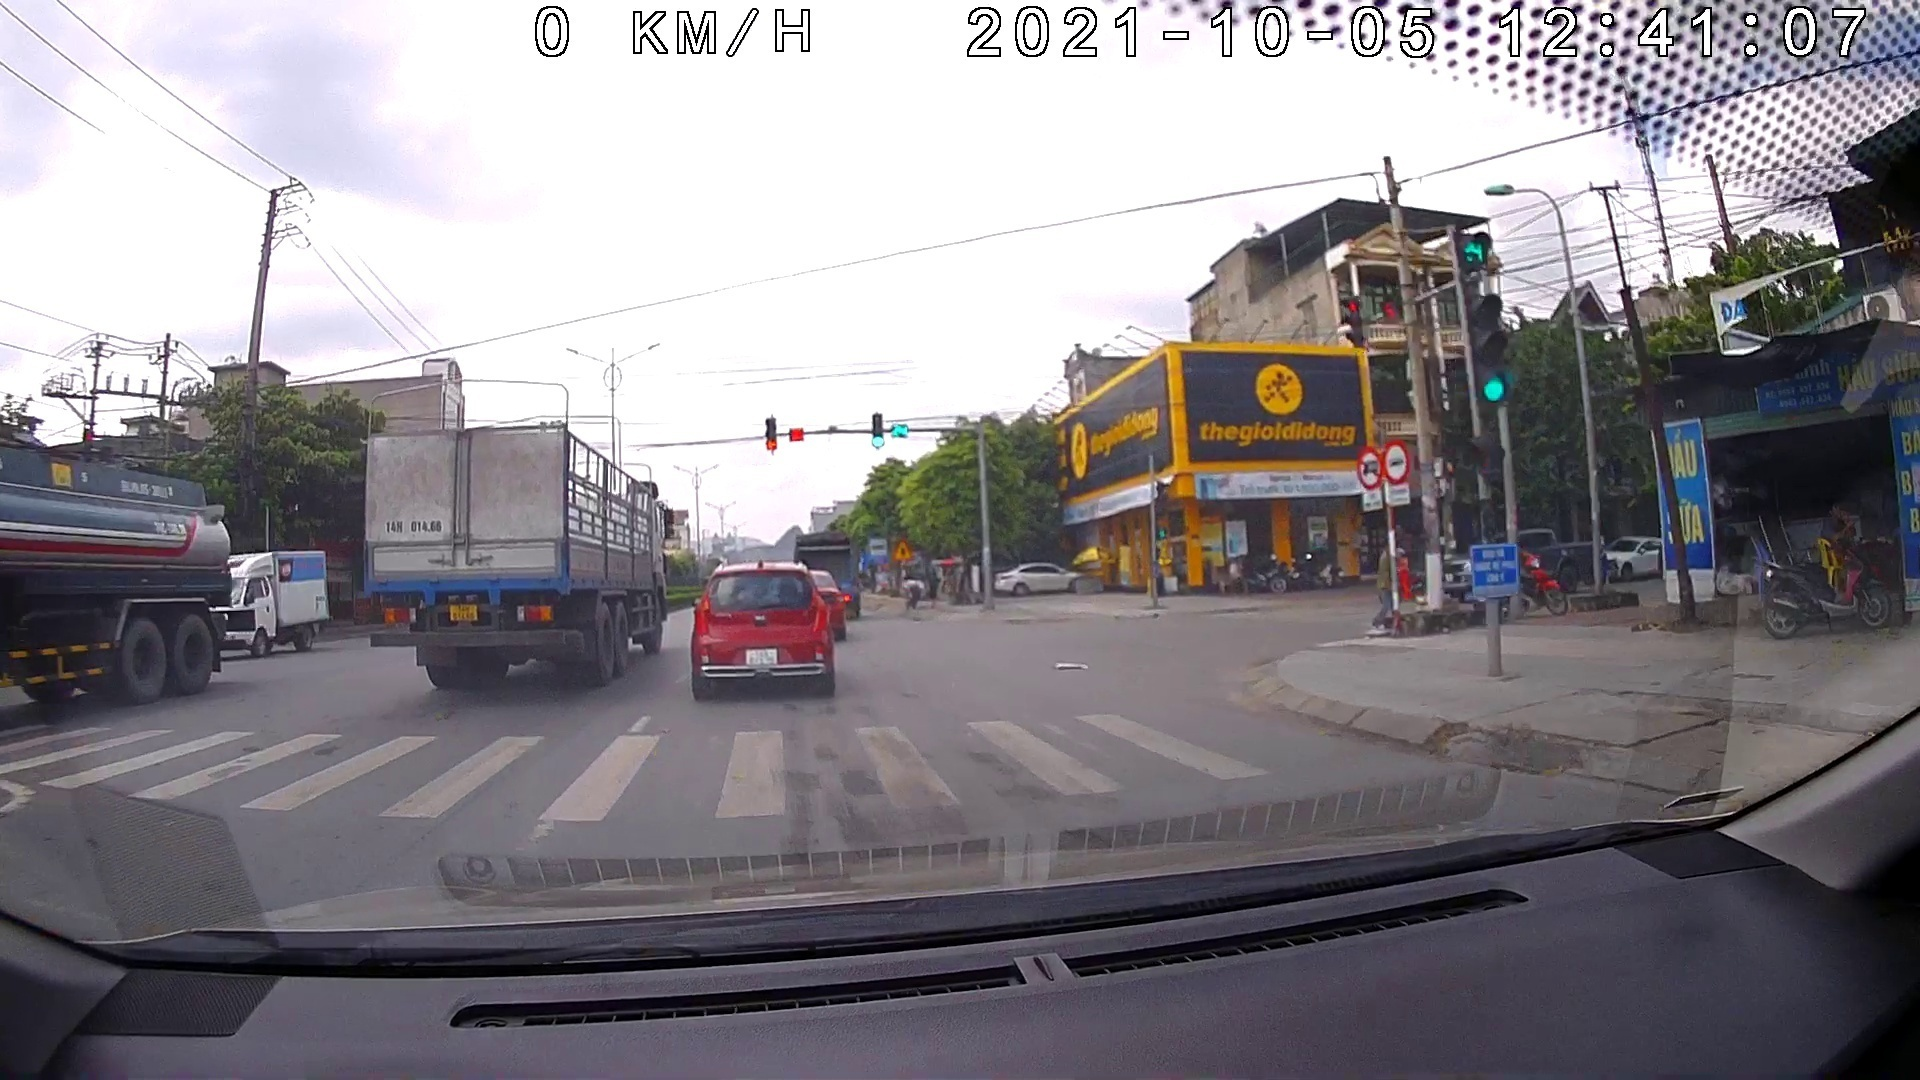Bien khac: (1357, 444, 1383, 491), (1385, 440, 1411, 484), (865, 531, 887, 563)
Giao nhau voi duong khong uu tien: (894, 535, 913, 563)
